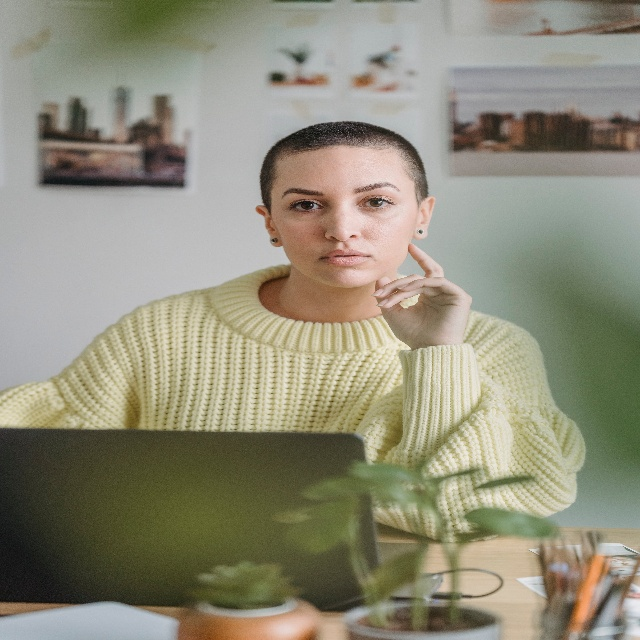Sin_guantes: (370, 242, 472, 349)
